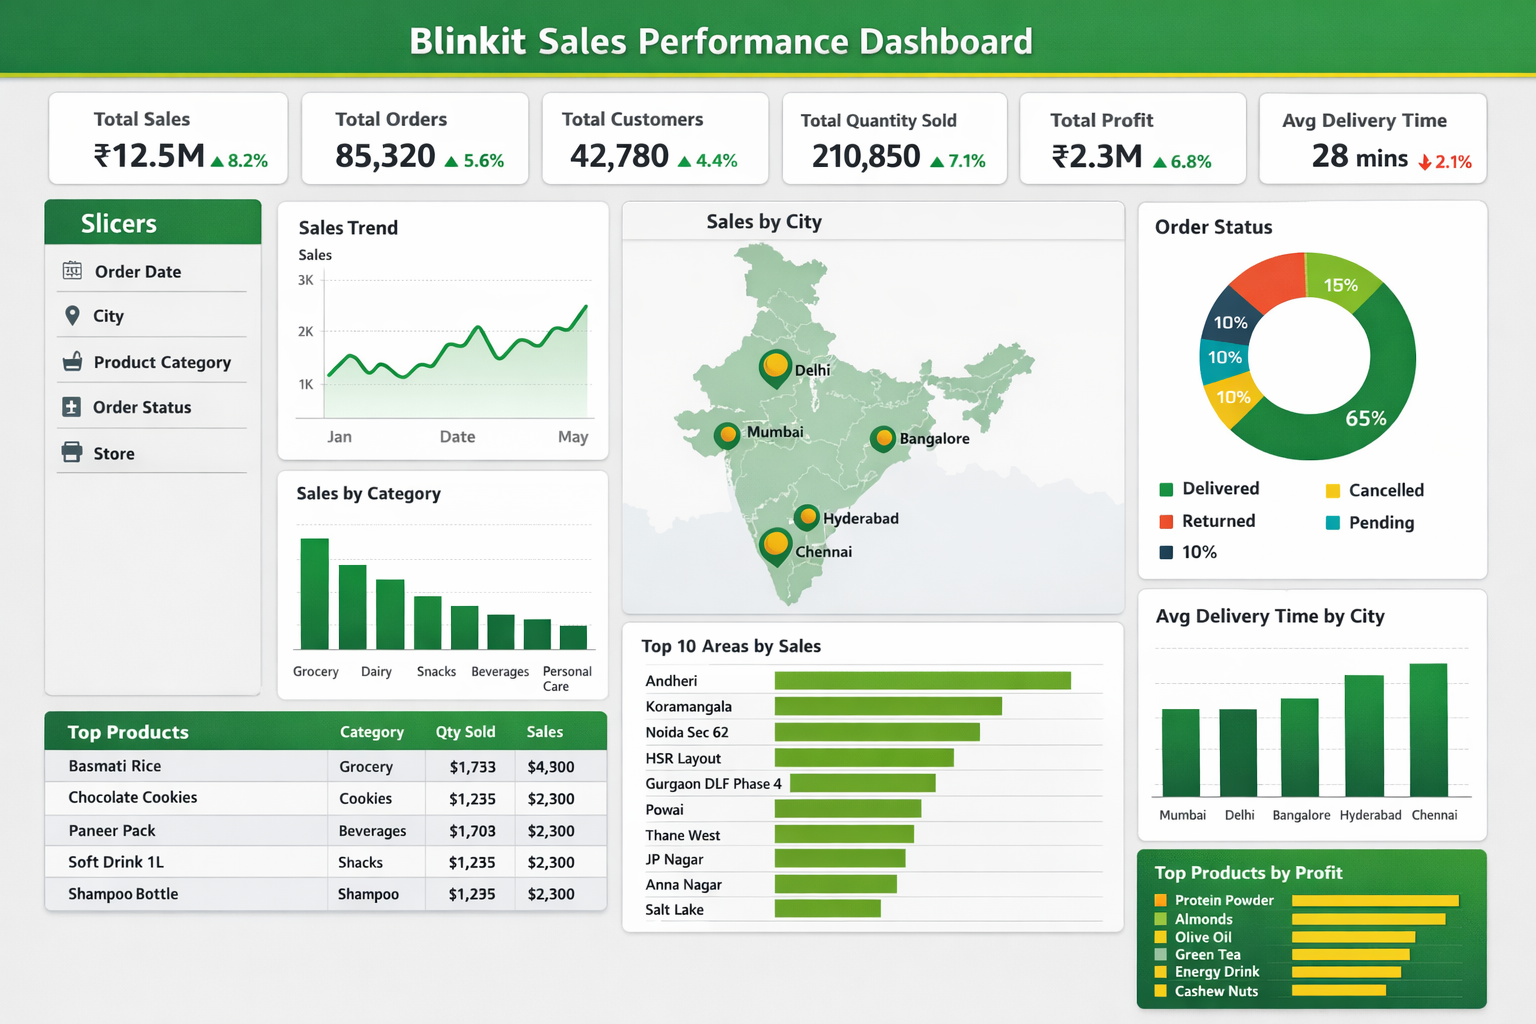

The page's visual inventory and layout, read from the dashboard file:
{"tool":"powerbi","page":{"name":"Page 1","canvas":[1280,720],"ordinal":0},"visuals":[{"type":"card","title":"TOTAL ORDER","fields":{"Values":["blinkit_order_items.Total Quantity Sold"]},"box":[217.3,102,255.1,71.8],"z":0},{"type":"card","title":"TOTAL SALES","fields":{"Values":["blinkit_order_items.Total Cost"]},"box":[43.5,102,153.1,71.8],"z":1000},{"type":"card","title":"TOTAL CUSTOMER","fields":{"Values":["blinkit_orders.Total Orders"]},"box":[487.6,102,202.2,71.8],"z":2000},{"type":"card","title":"AVG ORDER VALUE","fields":{"Values":["blinkit_order_items.Total Qty Sold"]},"box":[706.8,102,202.2,71.8],"z":3000},{"type":"card","title":"Avg Delivery Time","fields":{"Values":["blinkit_delivery_performance.Avg Delivery Time"]},"box":[939.2,102,285.4,71.8],"z":4000},{"type":"lineChart","title":"TOTAL SALES","fields":{"Y":["blinkit_order_items.Total Cost"],"Category":["blinkit_orders.order_date.Variation.Date Hierarchy.Month"]},"box":[217.9,187.7,326.1,337.2],"z":5000},{"type":"clusteredBarChart","fields":{"Category":["blinkit_customers.area"],"Y":["blinkit_order_items.Total Cost"]},"box":[956,187.7,324.5,337.2],"z":6000},{"type":"tableEx","fields":{"Values":["blinkit_products.product_name","blinkit_products.category","blinkit_order_items.Total Cost"]},"box":[334,536,946.4,184.5],"z":7000},{"type":"slicer","fields":{"Values":["blinkit_orders.order_date (bins)"]},"box":[413.6,12.7,175,60.4],"z":8000},{"type":"slicer","fields":{"Values":["blinkit_products.category"]},"box":[733.3,12.7,175,60.4],"z":9000},{"type":"slicer","fields":{"Values":["blinkit_customers.area"]},"box":[1013.2,12.7,163.8,58.9],"z":10000},{"type":"clusteredColumnChart","fields":{"Category":["blinkit_products.category"],"Y":["blinkit_order_items.Total sales","Table 1 (blinkit_orders).Total Profit"]},"box":[561.5,187.7,377,308.6],"z":11000},{"type":"shape","box":[42.9,187.7,152.7,477.2],"z":12000},{"type":"image","box":[14.3,210,203.6,87.5],"z":13000},{"type":"image","box":[14.3,356.3,203.6,87.5],"z":14000},{"type":"image","box":[14.3,509,203.6,87.5],"z":15000}]}

Visuals, with their boxes on the page's 1280x720 design canvas (x1, y1, x2, y2). These are canvas units, not pixel positions in the 1536x1024 screenshot, which may show the page scaled, cropped or inside an application window:
"TOTAL ORDER" card: {"left": 217, "top": 102, "right": 472, "bottom": 174}
"TOTAL SALES" card: {"left": 44, "top": 102, "right": 197, "bottom": 174}
"TOTAL CUSTOMER" card: {"left": 488, "top": 102, "right": 690, "bottom": 174}
"AVG ORDER VALUE" card: {"left": 707, "top": 102, "right": 909, "bottom": 174}
"Avg Delivery Time" card: {"left": 939, "top": 102, "right": 1225, "bottom": 174}
"TOTAL SALES" lineChart: {"left": 218, "top": 188, "right": 544, "bottom": 525}
clusteredBarChart - blinkit_customers.area x blinkit_order_items.Total Cost: {"left": 956, "top": 188, "right": 1280, "bottom": 525}
tableEx - blinkit_products.product_name x blinkit_products.category: {"left": 334, "top": 536, "right": 1280, "bottom": 720}
slicer - blinkit_orders.order_date (bins): {"left": 414, "top": 13, "right": 589, "bottom": 73}
slicer - blinkit_products.category: {"left": 733, "top": 13, "right": 908, "bottom": 73}
slicer - blinkit_customers.area: {"left": 1013, "top": 13, "right": 1177, "bottom": 72}
clusteredColumnChart - blinkit_products.category x blinkit_order_items.Total sales: {"left": 562, "top": 188, "right": 938, "bottom": 496}
shape: {"left": 43, "top": 188, "right": 196, "bottom": 665}
image: {"left": 14, "top": 210, "right": 218, "bottom": 298}
image: {"left": 14, "top": 356, "right": 218, "bottom": 444}
image: {"left": 14, "top": 509, "right": 218, "bottom": 596}
